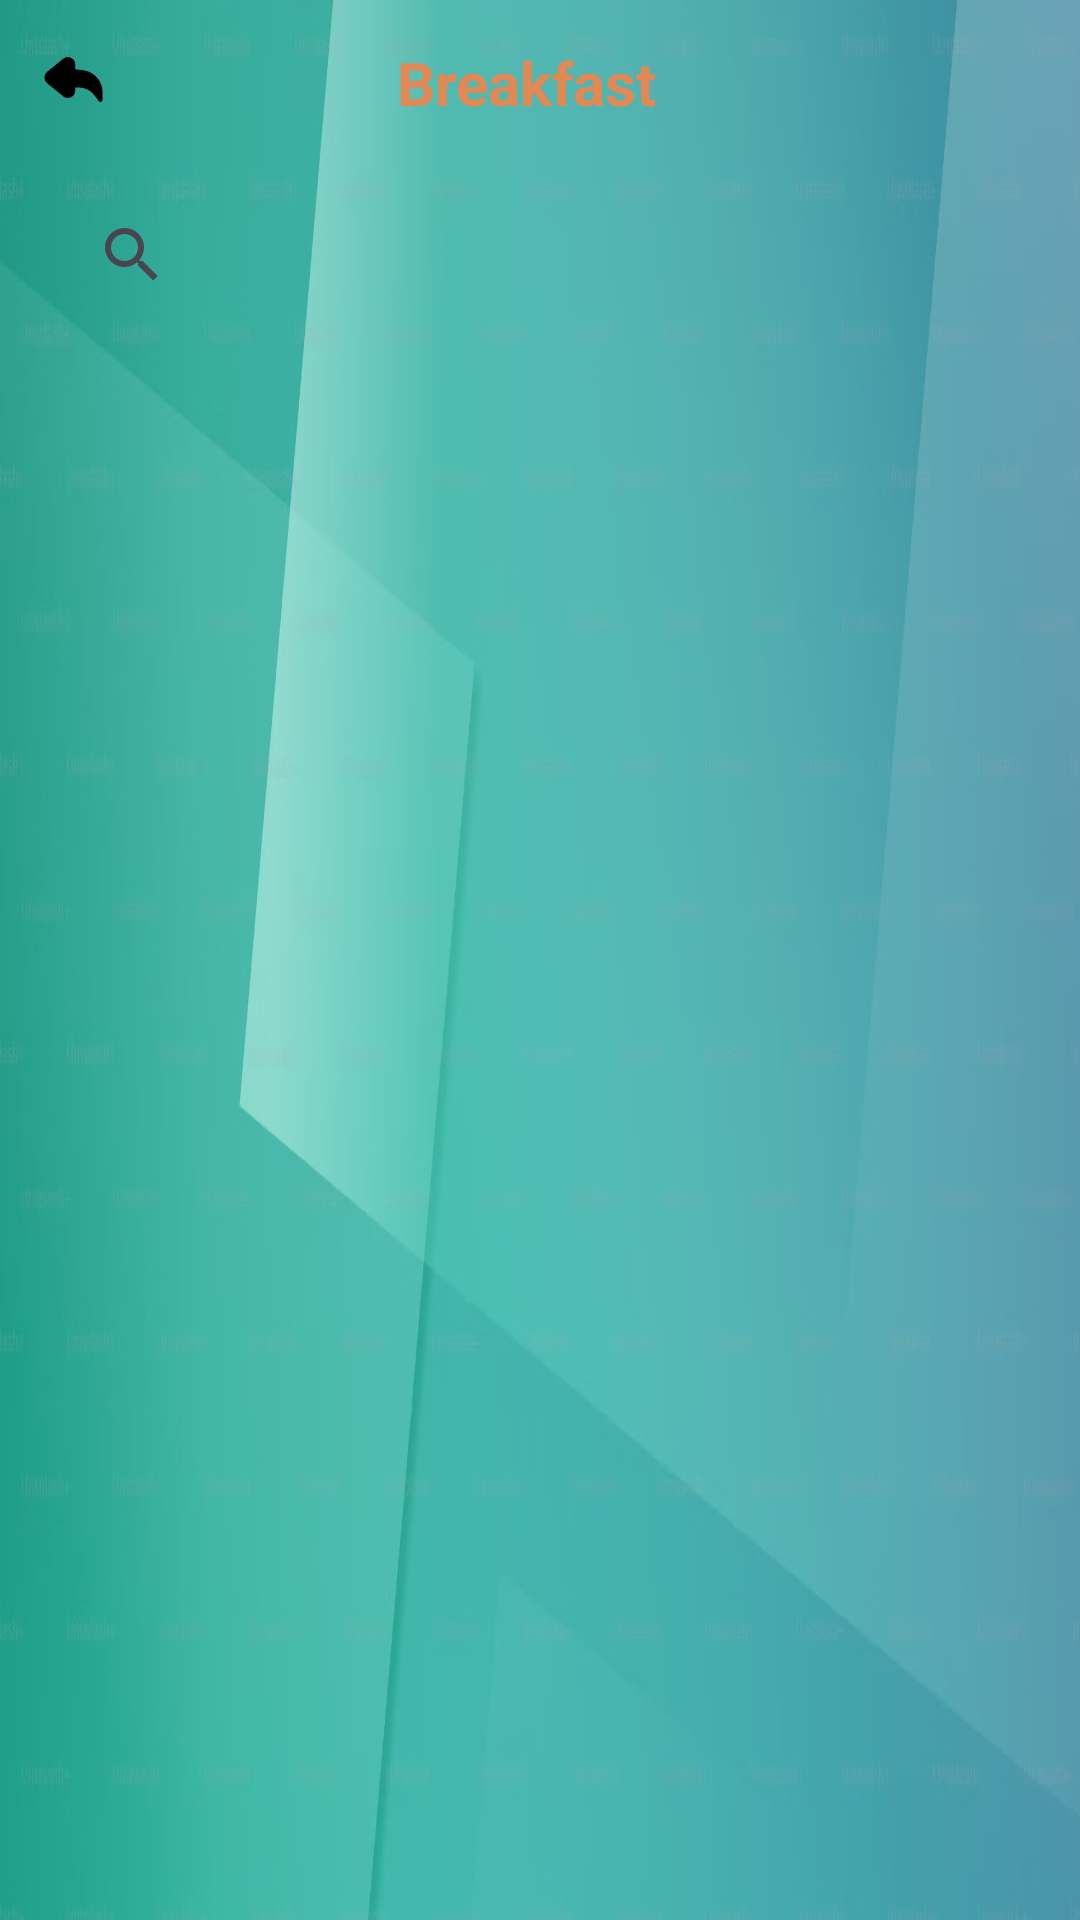

Named icons in this screenshot (1080×1920) and their bounding boxes, (x1, y1, x2, y2):
gobackicon: (44, 38, 121, 102)
